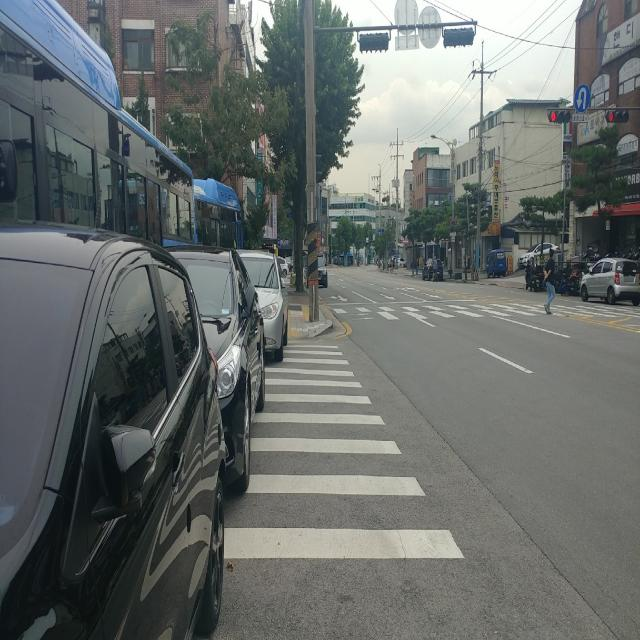횡단보도: (223, 344, 465, 560), (333, 306, 623, 318)
